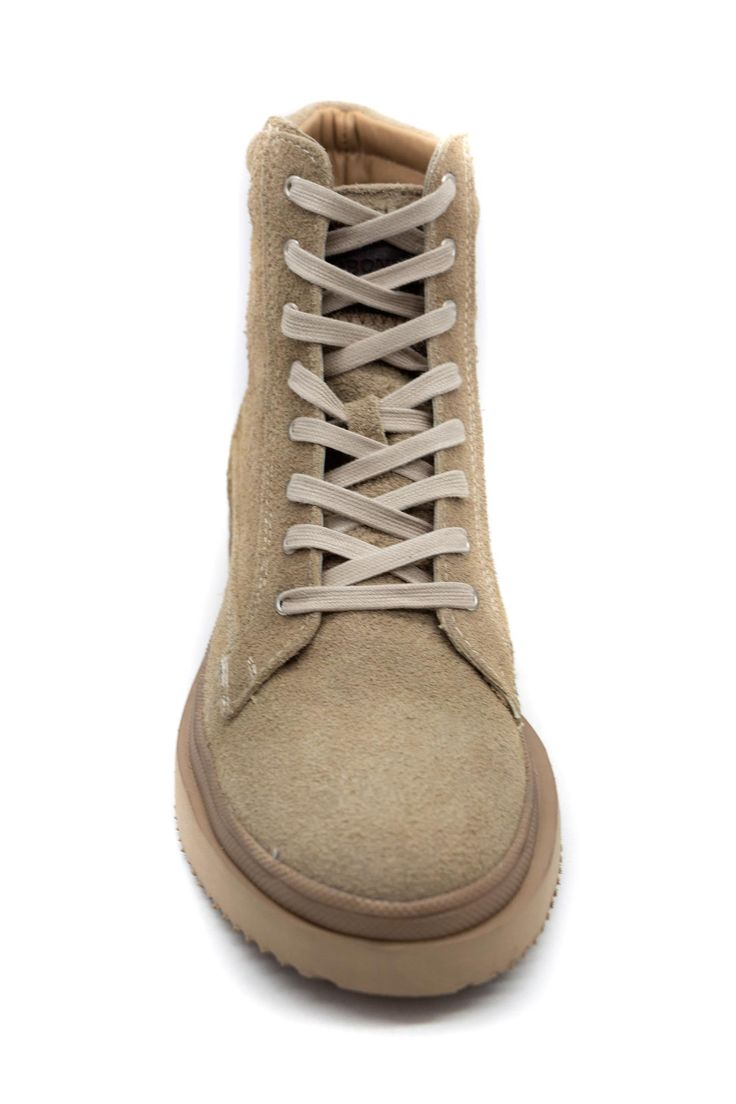gamuza: (200, 102, 531, 900)
